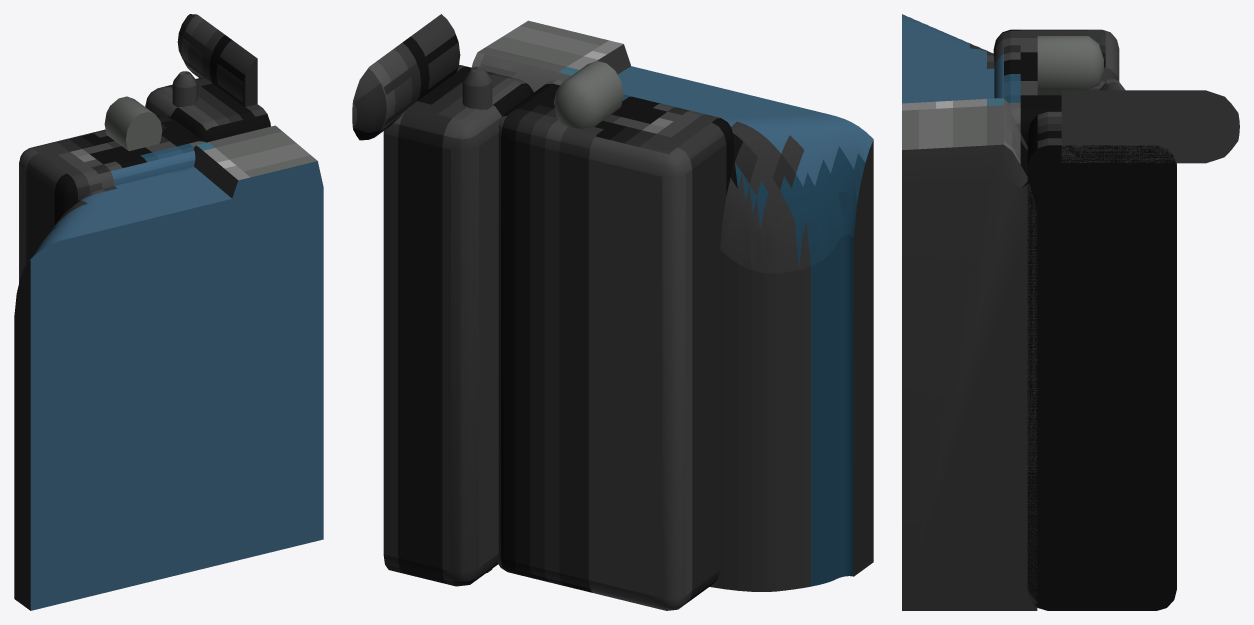
Rendered from fleet_walker_3.glb.
The picture shows the model from 3 angles, left to right: view 1: azimuth 30°, elevation 25°; view 2: azimuth 150°, elevation 25°; view 3: azimuth 270°, elevation 25°; orthographic projection. The views are drawn at different scales.
Parts seen in each view (by area): view 1: fleet_walker_3_whull, fleet_walker_3_wtsmall-1, fleet_walker_3_wbarrel-1, fleet_walker_3_wturret-1, fleet_walker_3_wknob-1, fleet_walker_3_wpost-1_43.8; view 2: fleet_walker_3_wtsmall-1, fleet_walker_3_whull, fleet_walker_3_wturret-1, fleet_walker_3_wbarrel-1, fleet_walker_3_wknob-1, fleet_walker_3_wpost-1_43.8; view 3: fleet_walker_3_whull, fleet_walker_3_wturret-1, fleet_walker_3_wbarrel-1, fleet_walker_3_wtsmall-1, fleet_walker_3_wknob-1.
Boxes of the visible parts, <box> form: fleet_walker_3_whull: <box>14,125,323,610</box>; fleet_walker_3_wtsmall-1: <box>19,116,205,282</box>; fleet_walker_3_wbarrel-1: <box>177,14,257,106</box>; fleet_walker_3_wturret-1: <box>145,77,270,142</box>; fleet_walker_3_wknob-1: <box>104,96,162,151</box>; fleet_walker_3_wpost-1_43.8: <box>172,71,197,106</box>; fleet_walker_3_wtsmall-1: <box>497,80,733,610</box>; fleet_walker_3_whull: <box>471,20,873,591</box>; fleet_walker_3_wturret-1: <box>383,64,533,586</box>; fleet_walker_3_wbarrel-1: <box>352,14,460,140</box>; fleet_walker_3_wknob-1: <box>554,61,623,128</box>; fleet_walker_3_wpost-1_43.8: <box>462,66,492,572</box>; fleet_walker_3_whull: <box>902,14,1037,610</box>; fleet_walker_3_wturret-1: <box>1027,111,1176,610</box>; fleet_walker_3_wbarrel-1: <box>1061,90,1239,163</box>; fleet_walker_3_wtsmall-1: <box>993,29,1119,145</box>; fleet_walker_3_wknob-1: <box>1037,36,1103,89</box>.
Bounding box in the file's own units: 23.98 × 33.81 × 19.89.
